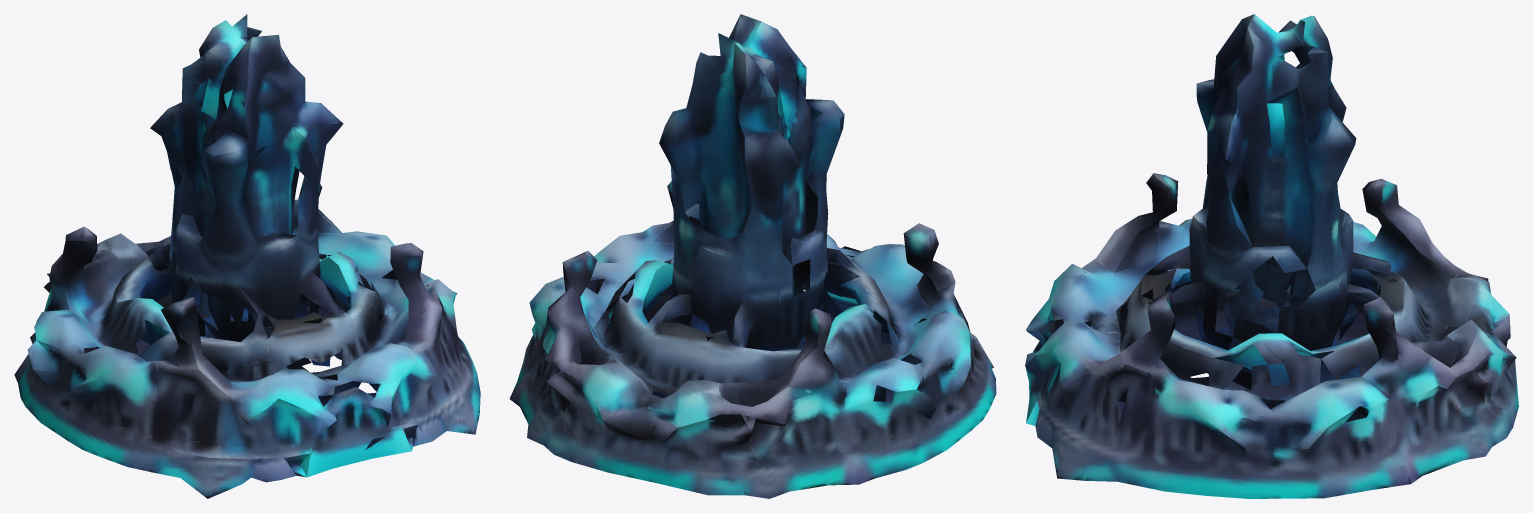
File: frost-ice-totem.glb
The picture shows the model from 3 angles, left to right: view 1: azimuth 30°, elevation 25°; view 2: azimuth 150°, elevation 25°; view 3: azimuth 270°, elevation 25°; orthographic projection. The views are drawn at different scales.
Visible parts, largest first — view 1: a-single-ancient-ice-totem-tall-carved_optimized; view 2: a-single-ancient-ice-totem-tall-carved_optimized; view 3: a-single-ancient-ice-totem-tall-carved_optimized.
Boxes of the visible parts, box(x1,y1,x2,y2) form: a-single-ancient-ice-totem-tall-carved_optimized: box(14, 14, 480, 498); a-single-ancient-ice-totem-tall-carved_optimized: box(509, 14, 996, 498); a-single-ancient-ice-totem-tall-carved_optimized: box(1025, 14, 1518, 498).
Size of the model in its own units: 0.9917 by 0.8831 by 0.9955.
Materials: 1 (1 with a texture image).
